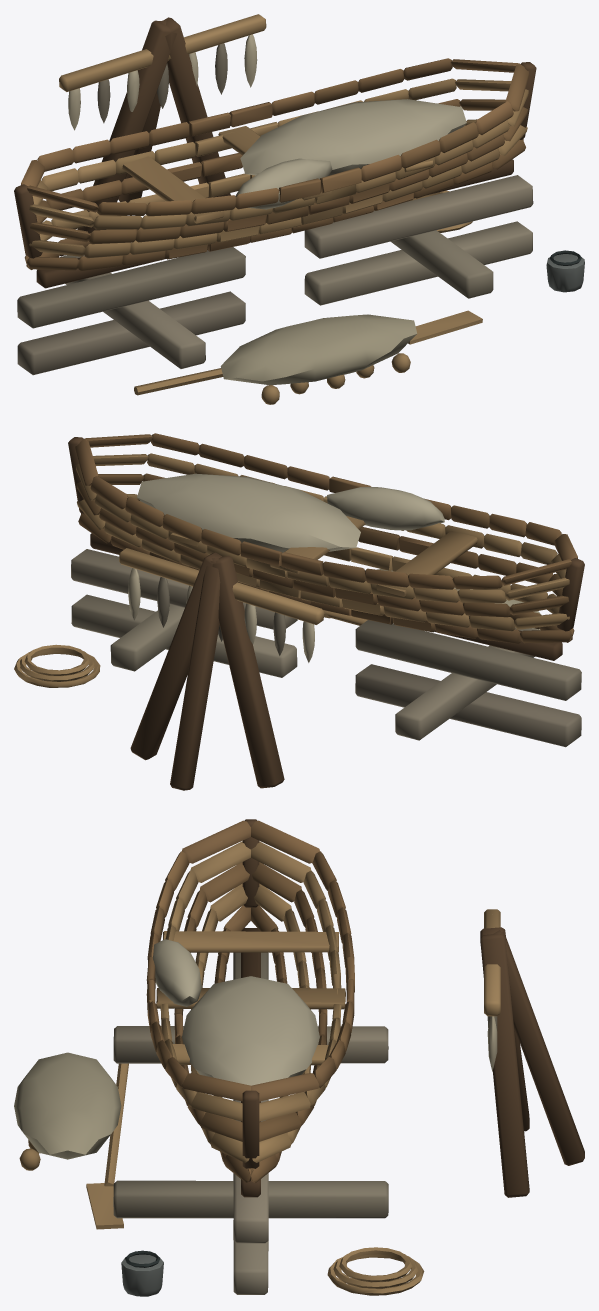
The model's file is skiff_on_blocks_a_lod1.glb.
3 views of the same model, one above another, from view 1: azimuth 30°, elevation 25°; view 2: azimuth 150°, elevation 25°; view 3: azimuth 270°, elevation 25° (orthographic). The views are drawn at different scales.
Parts seen in each view (by area): view 1: Surface.001; view 2: Surface.001; view 3: Surface.001.
Boxes of the visible parts, box(x1,y1,x2,y2) form: Surface.001: box(14, 14, 584, 404); Surface.001: box(14, 433, 584, 790); Surface.001: box(14, 819, 584, 1296).
Bounding box in the file's own units: 7.93 × 3.09 × 6.86.
